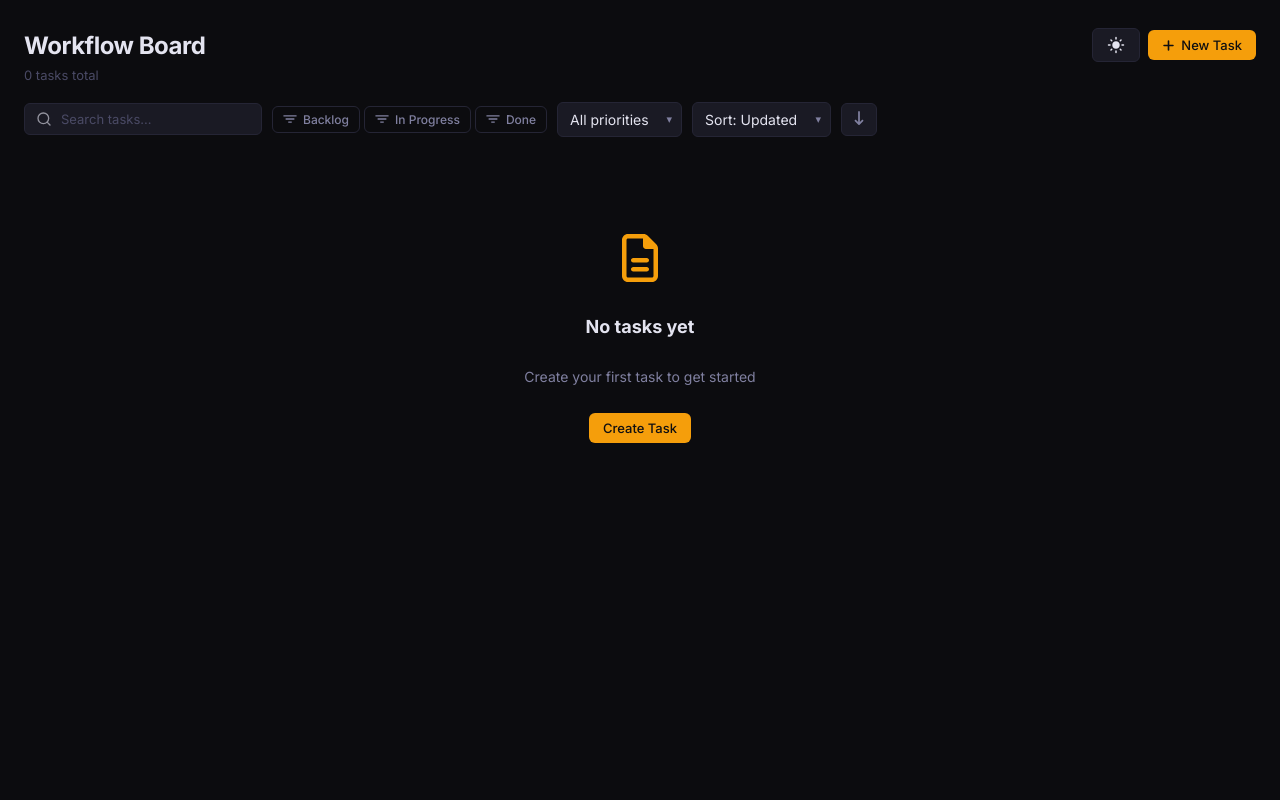
BoardView - Core Workflow › user can create a task and see it on board
Click the button "New Task" at (1202, 45), box [1148,30,1256,60]
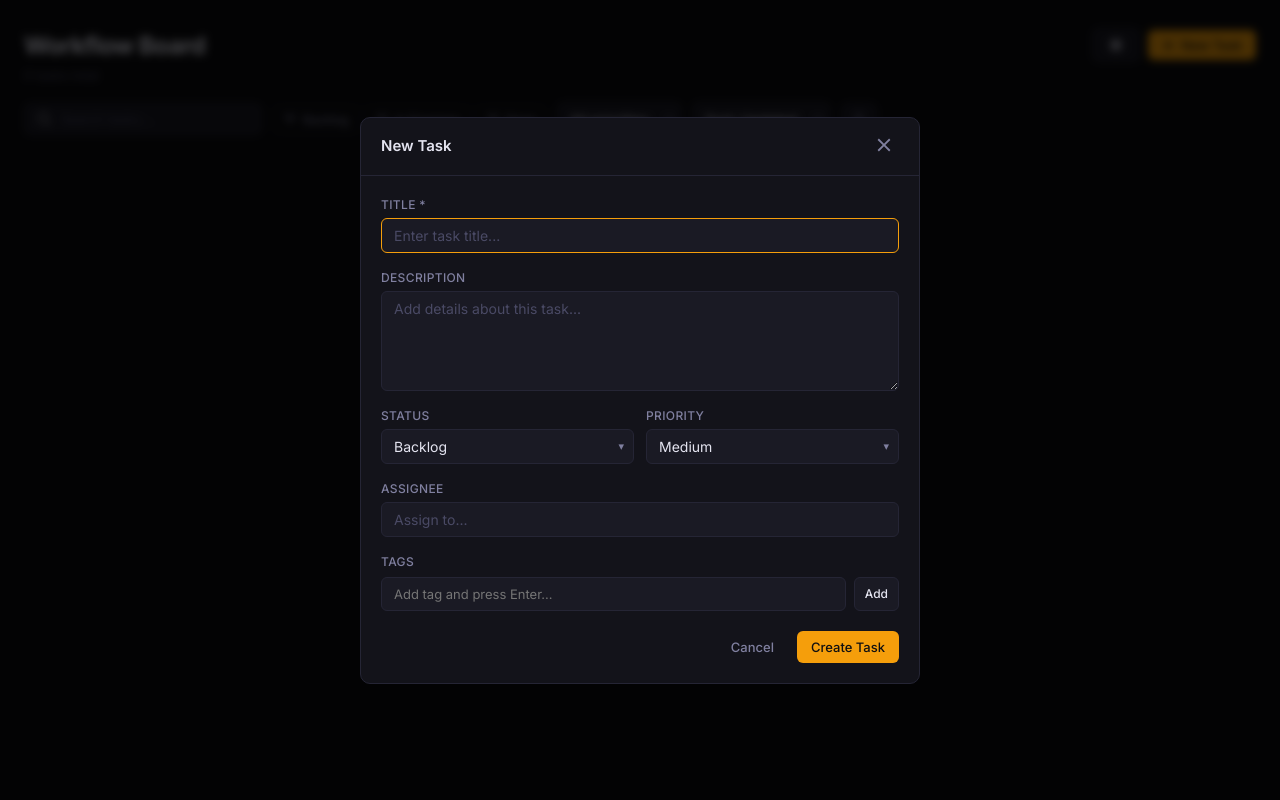
Type "Test Task" into the field labelled "Title *" at (640, 235), box [381,218,899,252]
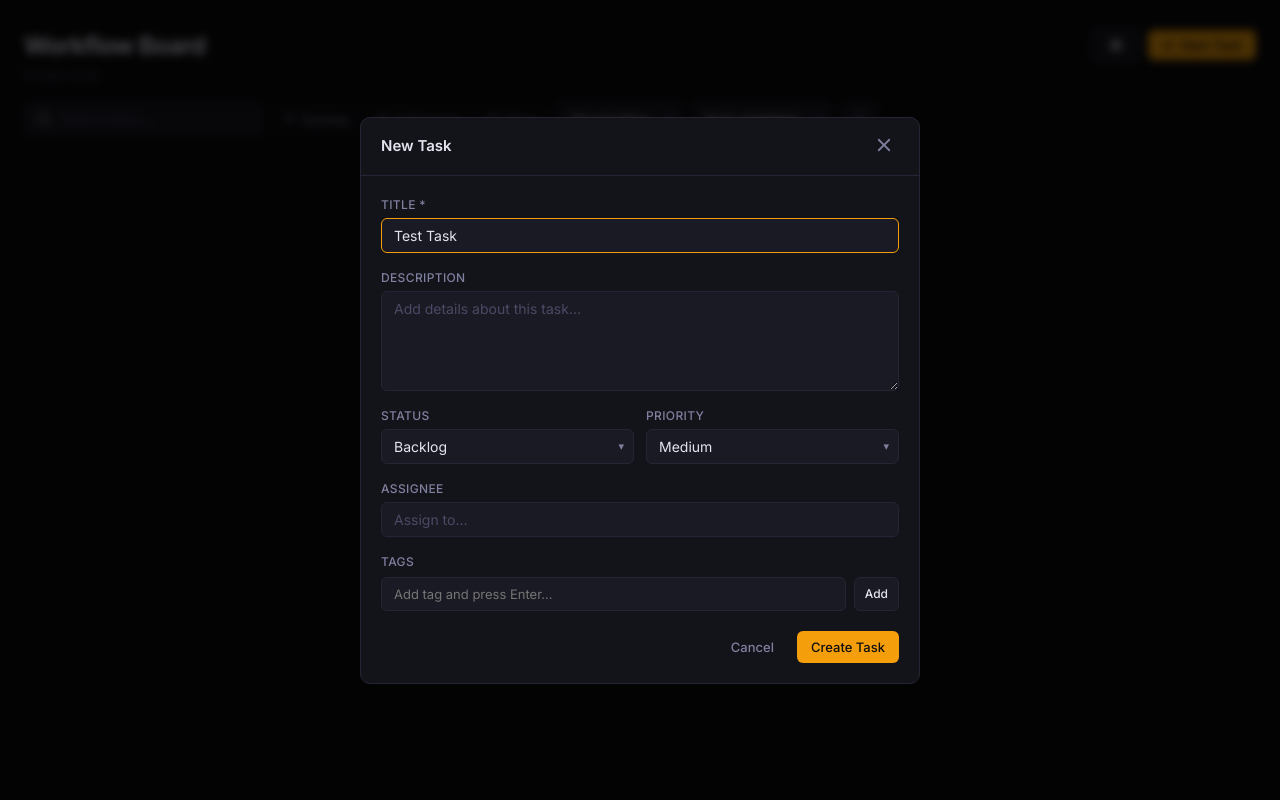
Type "Test Desc" into the text box labelled "Description" at (640, 340), box [381,290,899,390]
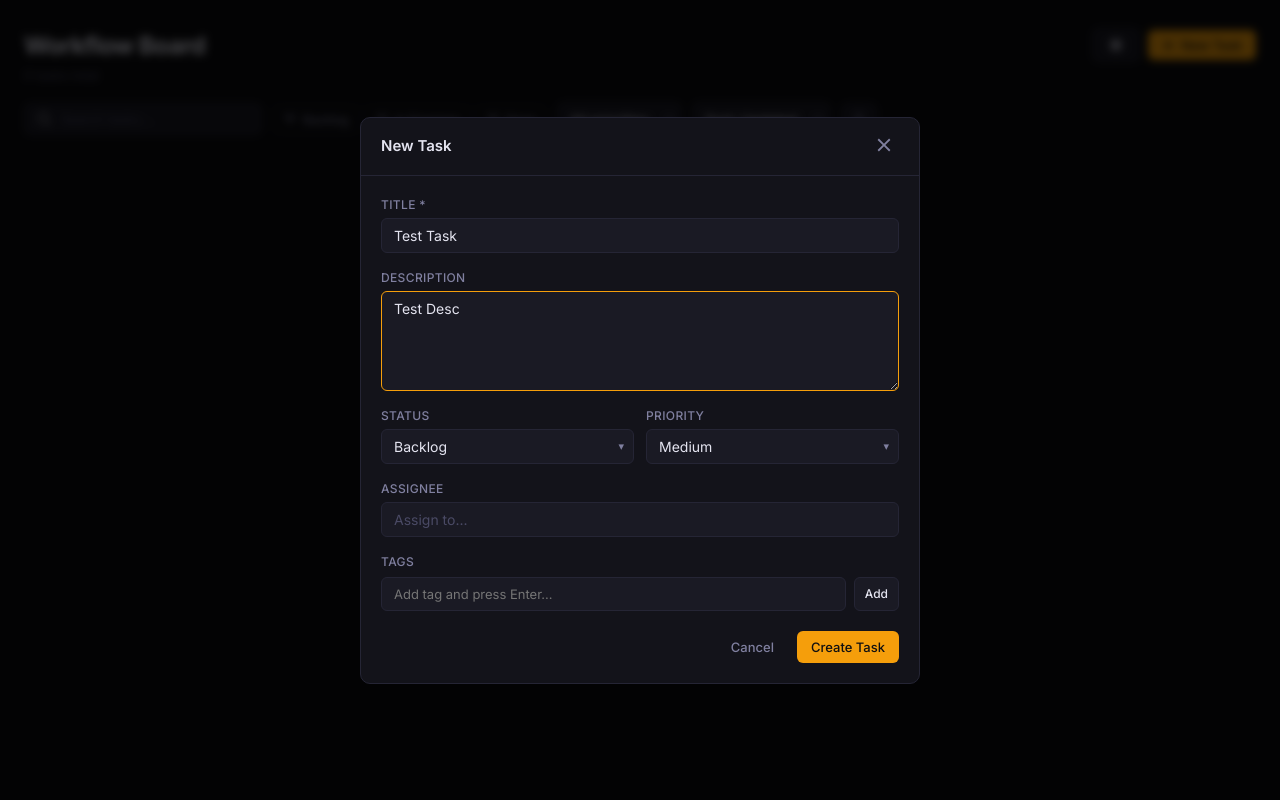
Click the button with aria-label "submit-task" at (848, 646), box [797,630,899,662]
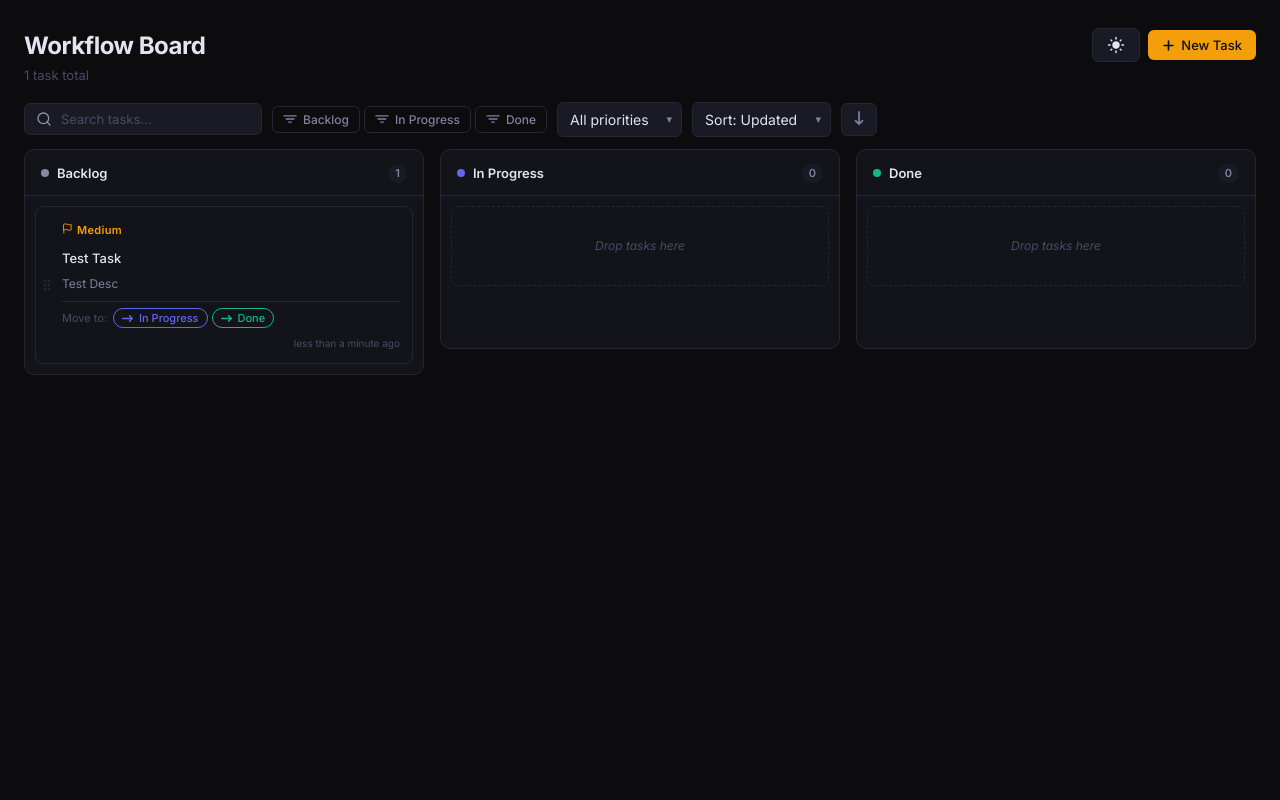
Expected: the heading "Test Task" is shown, [62,250,121,266]
